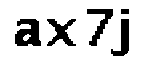7: (83, 4, 116, 48)
a: (18, 20, 42, 48)
j: (114, 4, 134, 60)
x: (45, 17, 77, 49)
